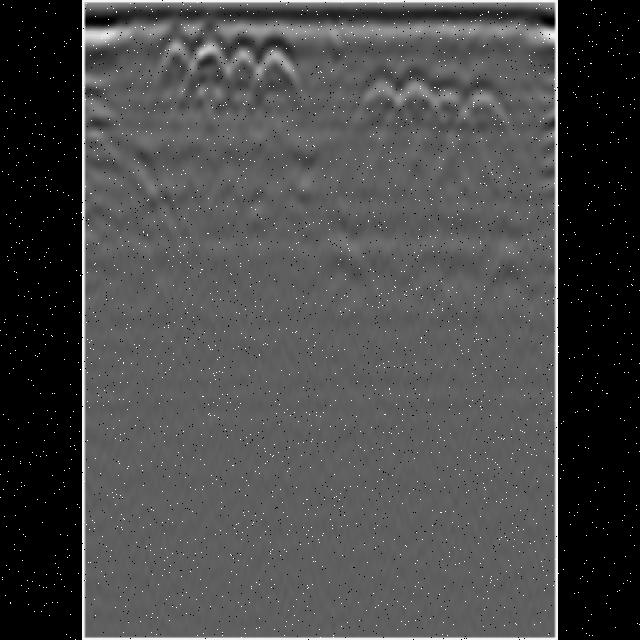hyperbola: (354, 73, 404, 127), (394, 81, 446, 132), (250, 42, 298, 90), (180, 41, 236, 81), (468, 90, 514, 138), (152, 38, 204, 80), (222, 40, 268, 86), (431, 90, 474, 136)
